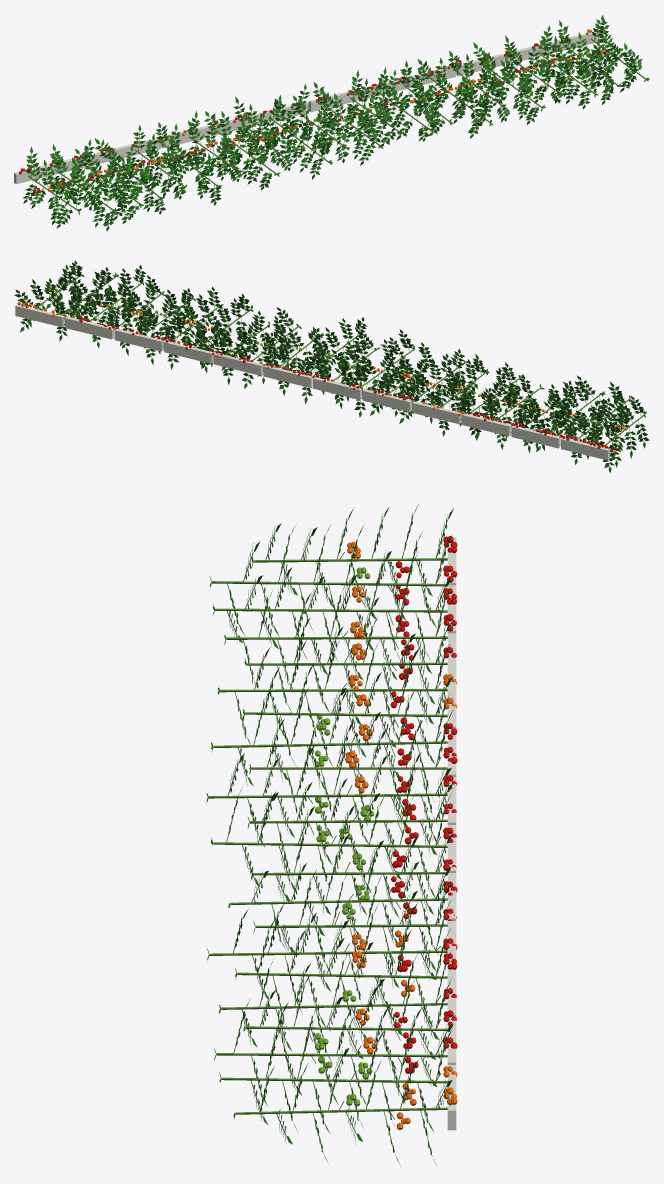
The model's file is row16.obj.
3 views of the same model, one above another, from view 1: azimuth 30°, elevation 25°; view 2: azimuth 150°, elevation 25°; view 3: azimuth 270°, elevation 25° (orthographic). The views are drawn at different scales.
Parts seen in each view (by area): view 1: row16; view 2: row16; view 3: row16.
Boxes of the visible parts, x1,y1,x2,y2 form: row16: [14, 14, 649, 231]; row16: [14, 260, 649, 473]; row16: [206, 504, 457, 1165].
Size of the model in its own units: 12.54 by 1.18 by 2.31.
